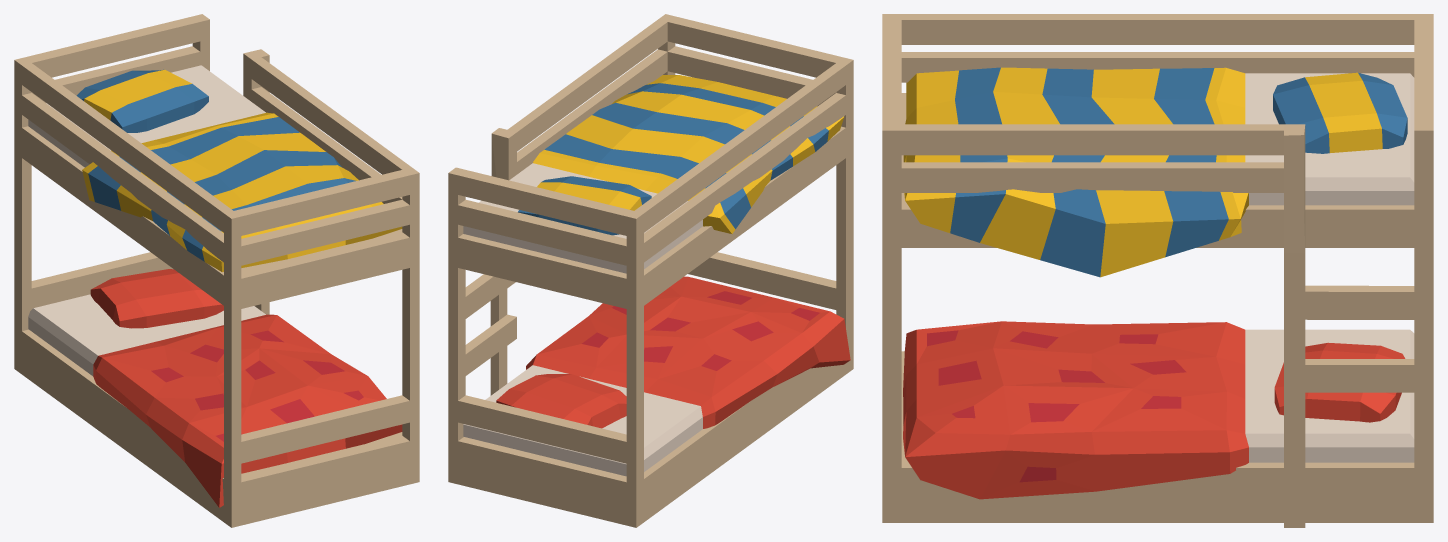
Rendered from furniture-bed-bunk-kids-old.glb.
The picture shows the model from 3 angles, left to right: view 1: azimuth 30°, elevation 25°; view 2: azimuth 150°, elevation 25°; view 3: azimuth 270°, elevation 25°; orthographic projection. The views are drawn at different scales.
Parts seen in each view (by area): view 1: bed-bunk-kids-old; view 2: bed-bunk-kids-old; view 3: bed-bunk-kids-old.
Part boxes in pixels (x1=…): bed-bunk-kids-old: x1=14, y1=14, x2=419, y2=527; bed-bunk-kids-old: x1=448, y1=14, x2=853, y2=527; bed-bunk-kids-old: x1=882, y1=14, x2=1433, y2=527.
Bounding box in the file's own units: 1.15 × 1.57 × 2.
